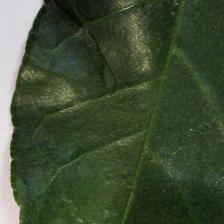healthy: (11, 0, 224, 224)
